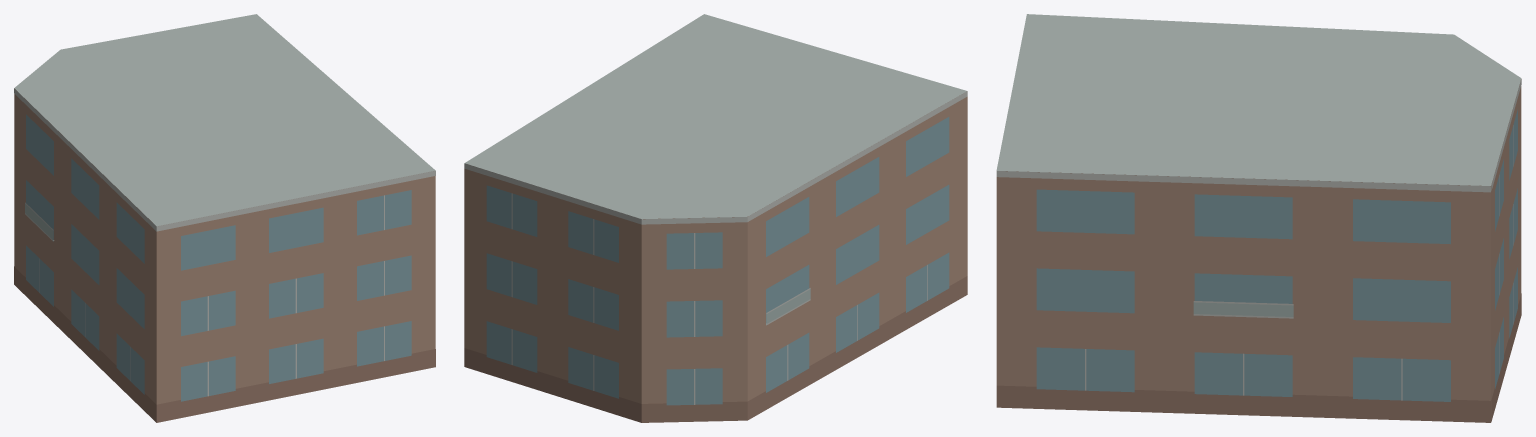
Rendered from survey-upis-32782991.glb.
3 views of the same model, side by side, from view 1: azimuth 30°, elevation 25°; view 2: azimuth 150°, elevation 25°; view 3: azimuth 270°, elevation 25° (orthographic). The views are drawn at different scales.
Parts seen in each view (by area): view 1: survey-upis-32782991.tmp; view 2: survey-upis-32782991.tmp; view 3: survey-upis-32782991.tmp.
Boxes of the visible parts, <box> form: survey-upis-32782991.tmp: <box>14,14,435,422</box>; survey-upis-32782991.tmp: <box>464,14,967,422</box>; survey-upis-32782991.tmp: <box>996,14,1521,422</box>.
Size of the model in its own units: 14.27 by 9.15 by 18.4.
